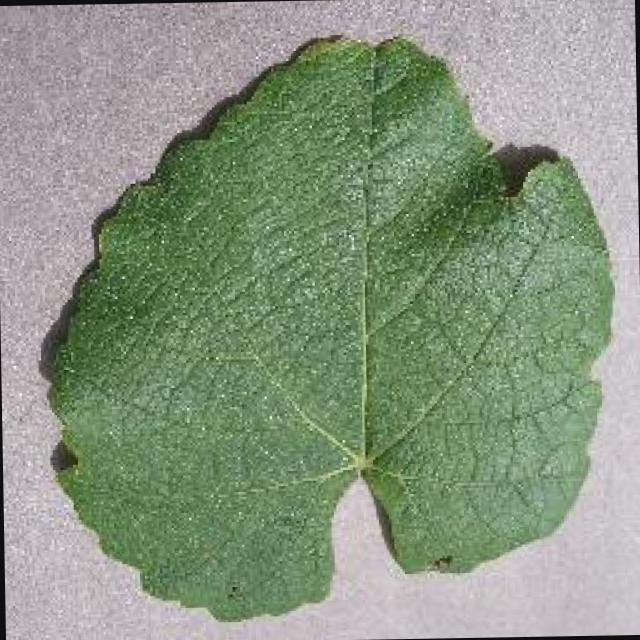healthy: (56, 38, 610, 617)
